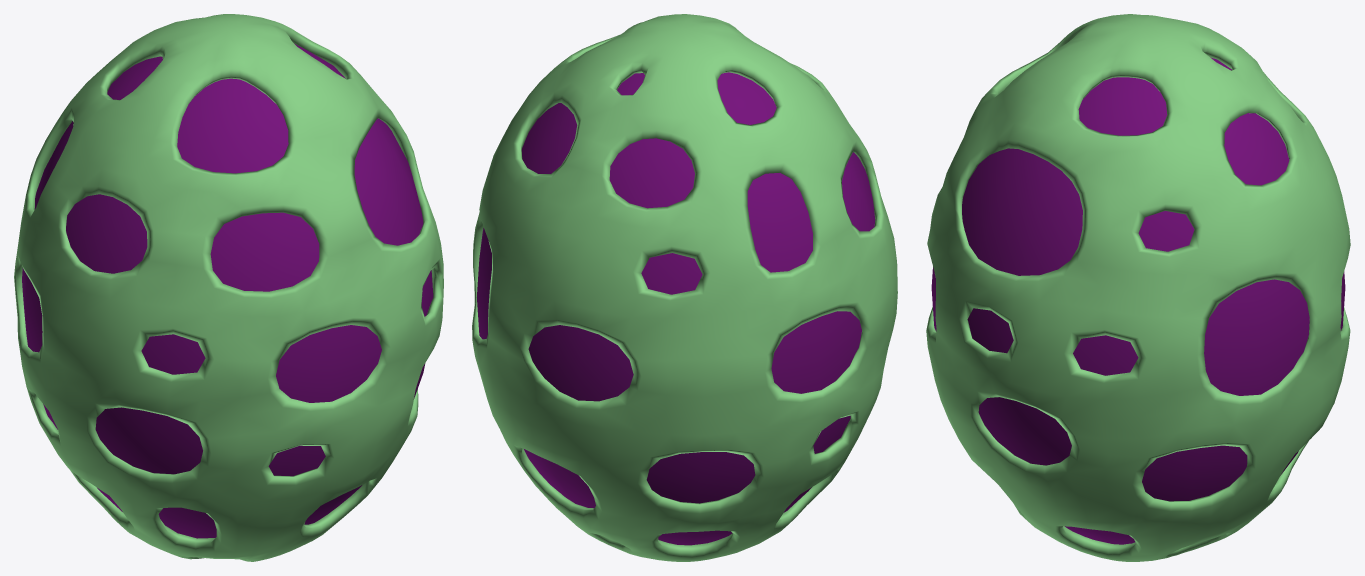
Rendered from AlienEgg.fbx.
3 renders of one model, left to right at view 1: azimuth 30°, elevation 25°; view 2: azimuth 150°, elevation 25°; view 3: azimuth 270°, elevation 25°, orthographic.
Visible parts, largest first — view 1: polySurface5; view 2: polySurface5; view 3: polySurface5.
Boxes of the visible parts, <box> form: polySurface5: <box>14,14,443,561</box>; polySurface5: <box>472,14,897,561</box>; polySurface5: <box>926,14,1350,561</box>.
Size of the model in its own units: 2.09 by 2.77 by 2.05.
